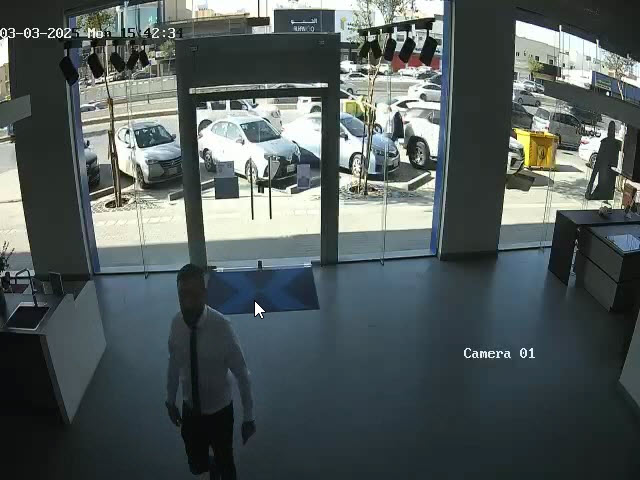employee: (165, 263, 256, 480)
